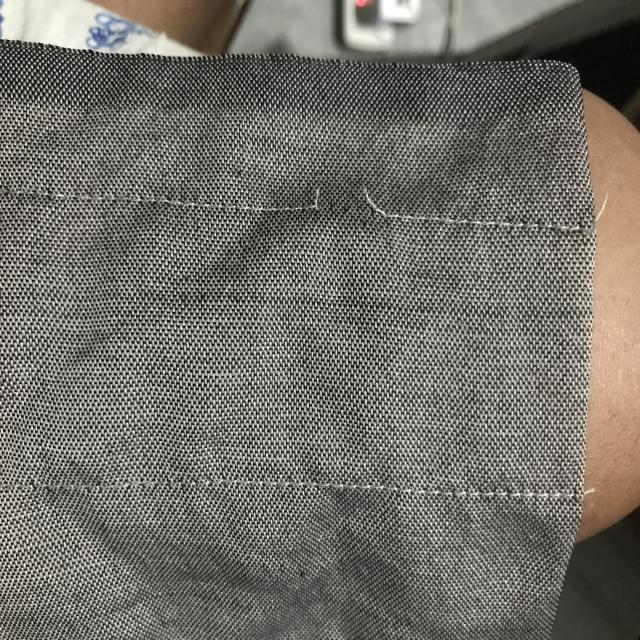broken: (303, 158, 395, 251)
good: (166, 183, 252, 232)
